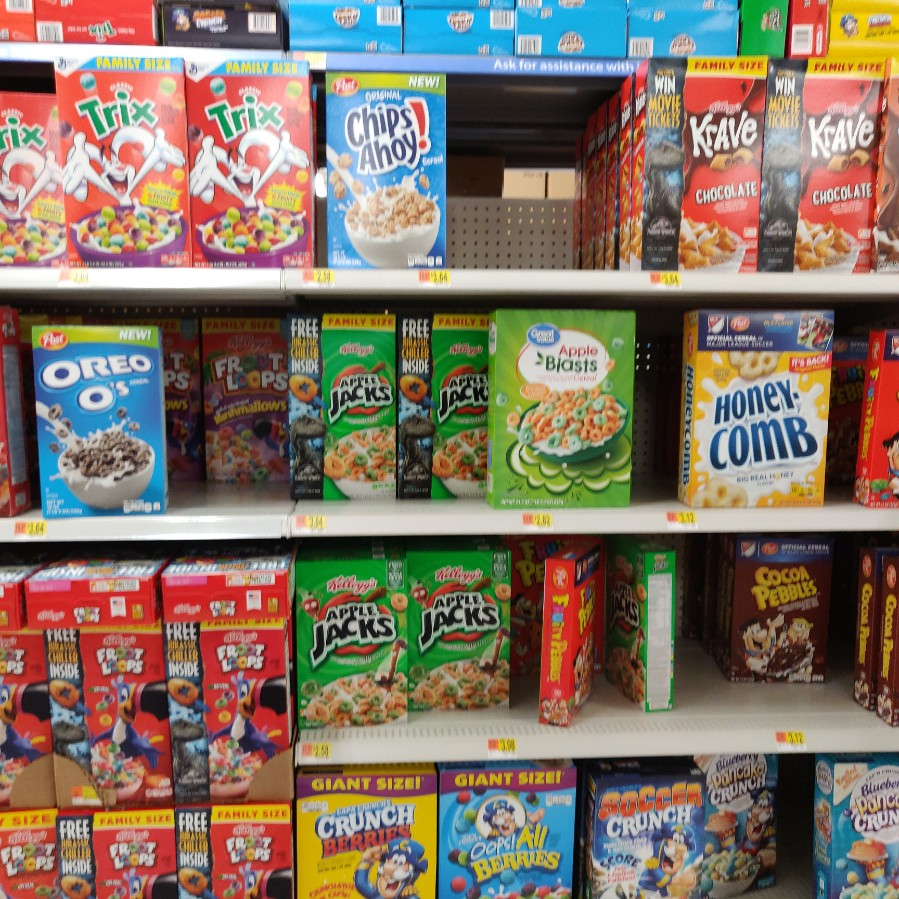Chips Ahoys-565717529: (319, 64, 454, 272)
Honey Comb- 009288857: (670, 309, 831, 508)
Oreo-563424384: (33, 324, 166, 513)
